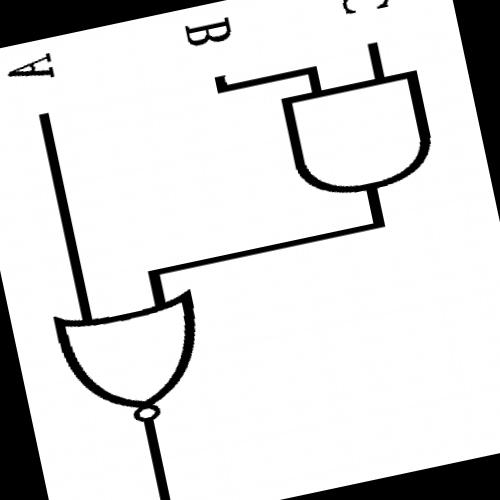and: (259, 54, 458, 223)
nor: (30, 268, 239, 458)
